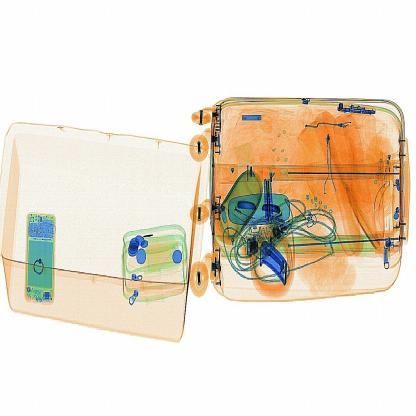scissors: (256, 170, 288, 227)
